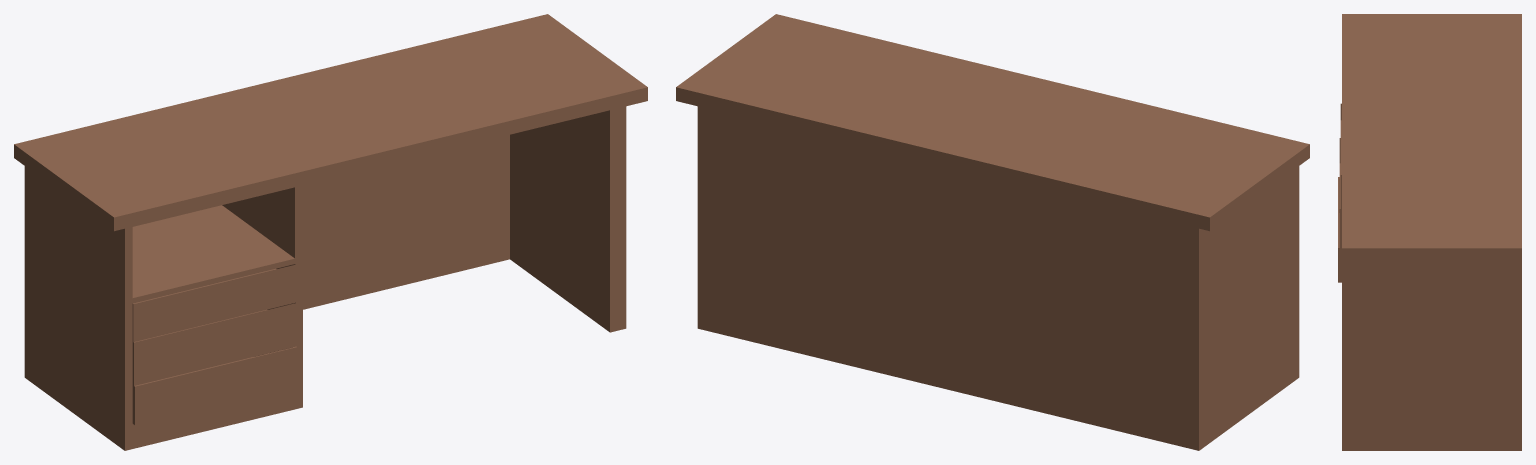
The model's file is desk.fbx.
The picture shows the model from 3 angles, left to right: view 1: azimuth 30°, elevation 25°; view 2: azimuth 150°, elevation 25°; view 3: azimuth 270°, elevation 25°; orthographic projection. The views are drawn at different scales.
Visible parts, largest first — view 1: Desk, Shelf2, Shelf3, Shelf1; view 2: Desk; view 3: Desk, Shelf3, Shelf2, Shelf1.
Part boxes in pixels (x1,y1,x2,y2): Desk: (14, 14, 647, 450); Shelf2: (132, 302, 296, 385); Shelf3: (132, 346, 297, 424); Shelf1: (132, 264, 295, 341); Desk: (676, 14, 1309, 450); Desk: (1342, 14, 1521, 450); Shelf3: (1338, 177, 1341, 282); Shelf2: (1339, 138, 1341, 247); Shelf1: (1340, 103, 1341, 208).
Bounding box in the file's own units: 732 × 309 × 243.
